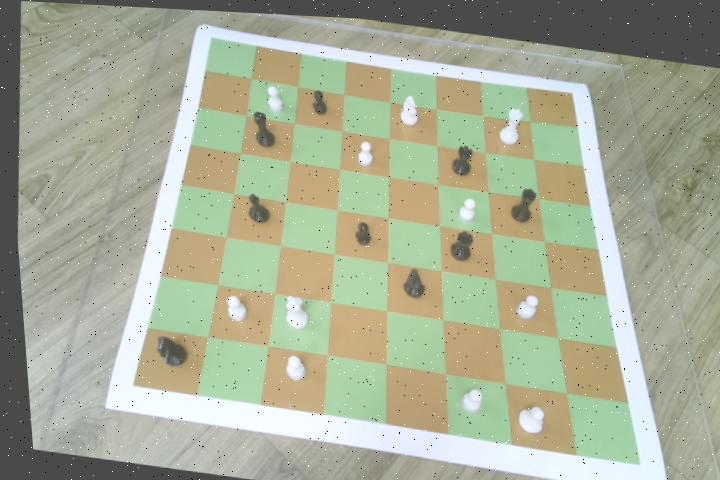chessboard-detect: (125, 34, 632, 456)
